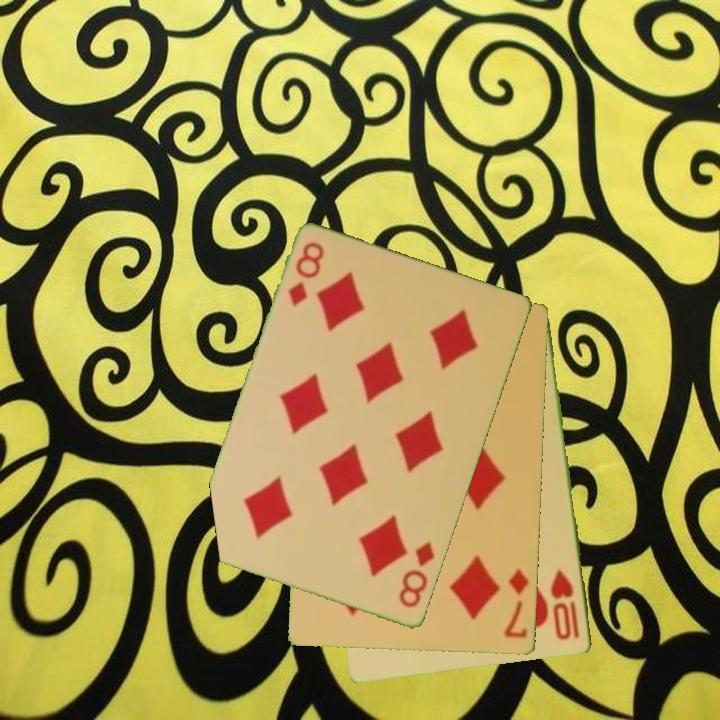10h: (548, 566, 583, 643)
7d: (500, 565, 532, 642)
8d: (395, 538, 438, 612), (284, 238, 328, 310)
